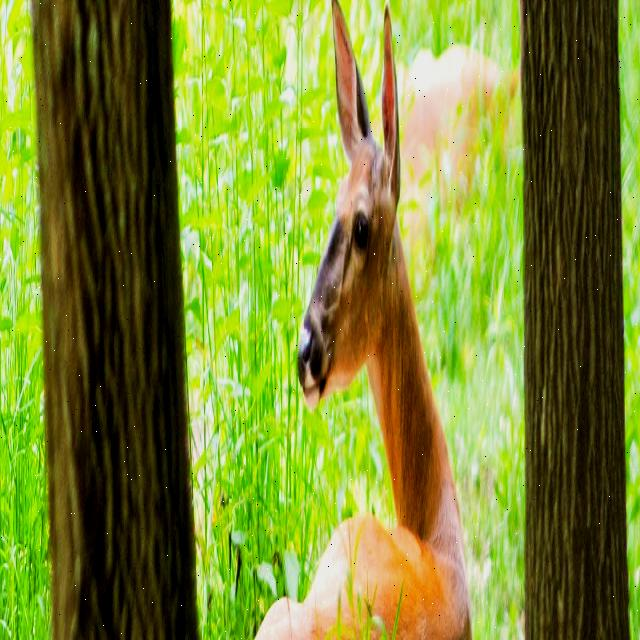deer: (287, 0, 415, 414)
